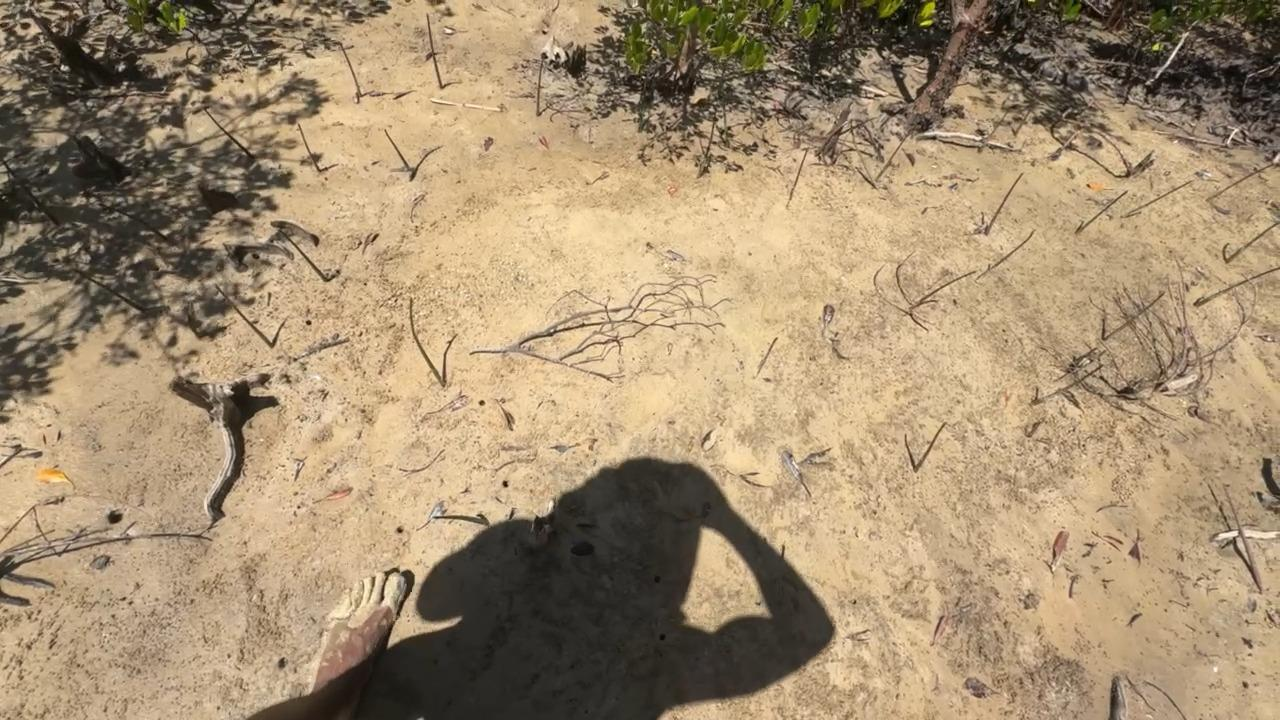Tree: (1220, 477, 1270, 593), (1, 153, 61, 227), (212, 283, 275, 349), (1194, 264, 1280, 309), (405, 296, 446, 386), (973, 226, 1038, 282), (69, 265, 146, 312), (1104, 291, 1166, 343), (97, 199, 170, 242), (1207, 160, 1279, 203), (1121, 179, 1196, 219), (1033, 362, 1104, 404), (276, 228, 329, 283), (910, 267, 976, 310), (984, 170, 1026, 237), (876, 121, 922, 182), (202, 103, 253, 158), (1075, 188, 1129, 234), (1224, 219, 1280, 261), (851, 119, 878, 189), (784, 146, 811, 212), (978, 104, 1013, 151), (337, 41, 362, 96), (297, 120, 321, 173), (426, 11, 442, 88), (753, 337, 781, 379), (384, 128, 410, 171), (535, 52, 547, 116), (1012, 104, 1033, 139), (902, 431, 919, 472), (1184, 214, 1189, 217)
